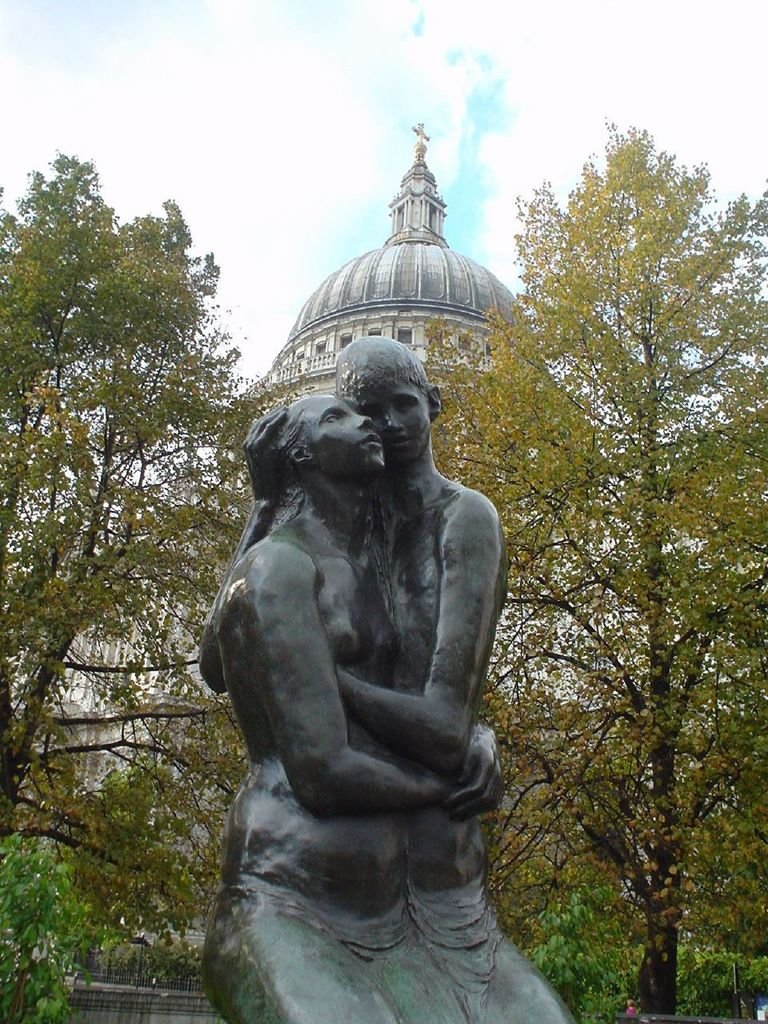Tree: (488, 99, 741, 978), (0, 129, 273, 842), (32, 756, 233, 992), (0, 812, 135, 1023), (519, 862, 656, 1023)
